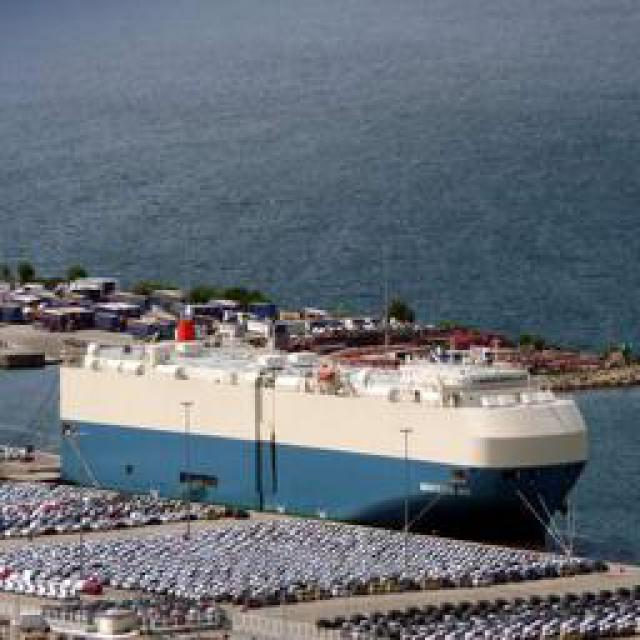Ship: (32, 325, 600, 548)
